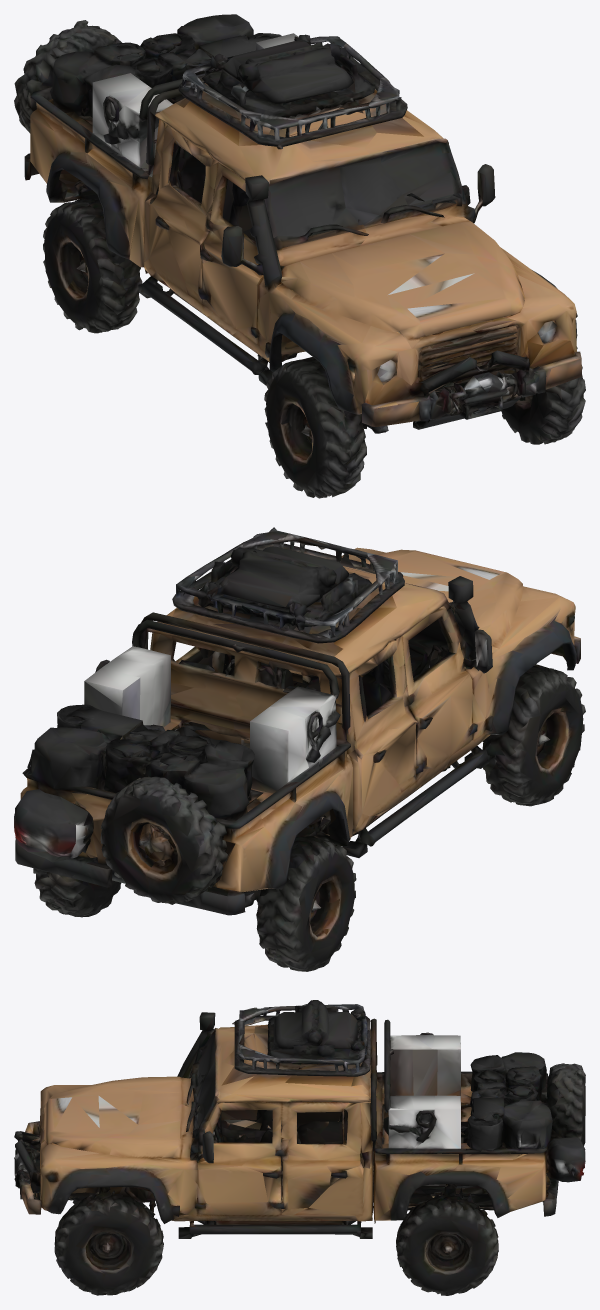
Rendered from VEH_M_ExpeditionRig.glb.
3 views of the same model, one above another, from view 1: azimuth 30°, elevation 25°; view 2: azimuth 150°, elevation 25°; view 3: azimuth 270°, elevation 25° (orthographic). The views are drawn at different scales.
Parts seen in each view (by area): view 1: VEH_M_ExpeditionRig; view 2: VEH_M_ExpeditionRig; view 3: VEH_M_ExpeditionRig.
Part boxes in pixels (<box>): VEH_M_ExpeditionRig: <box>14,14,585,498</box>; VEH_M_ExpeditionRig: <box>14,527,585,971</box>; VEH_M_ExpeditionRig: <box>14,1000,585,1295</box>.
Size of the model in its own units: 2.04 by 2.24 by 4.91.
1 material, 1 textured.
